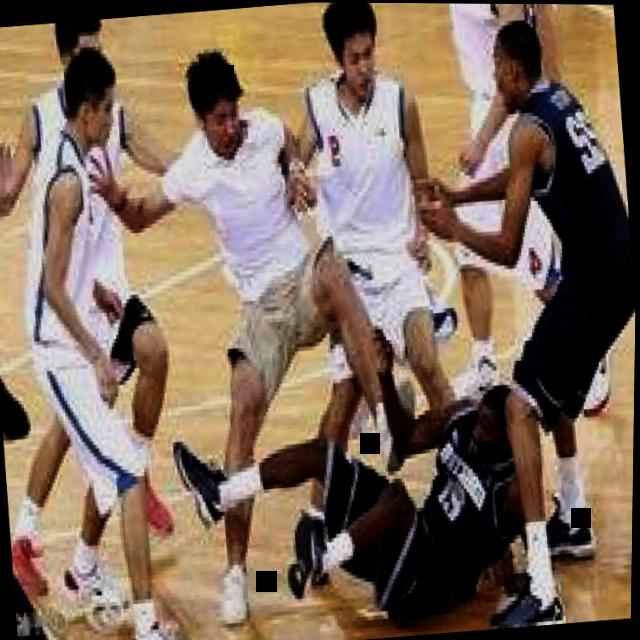Fall-Detected: (161, 343, 572, 636)
